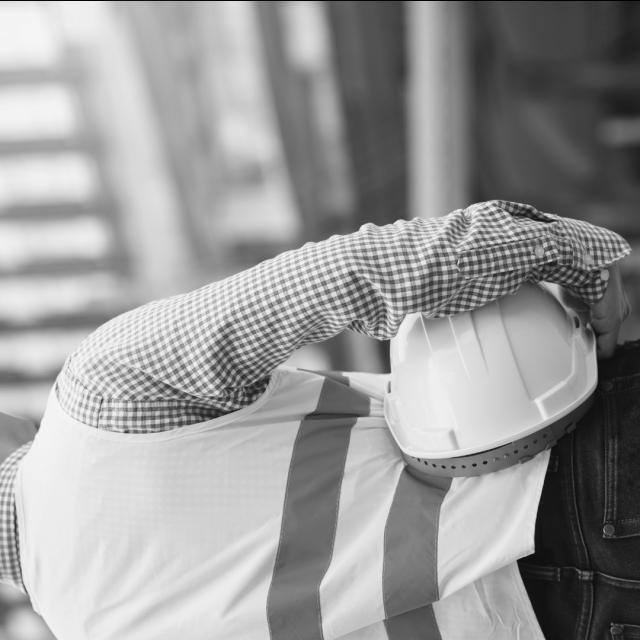safety_helmet: (386, 281, 602, 476)
